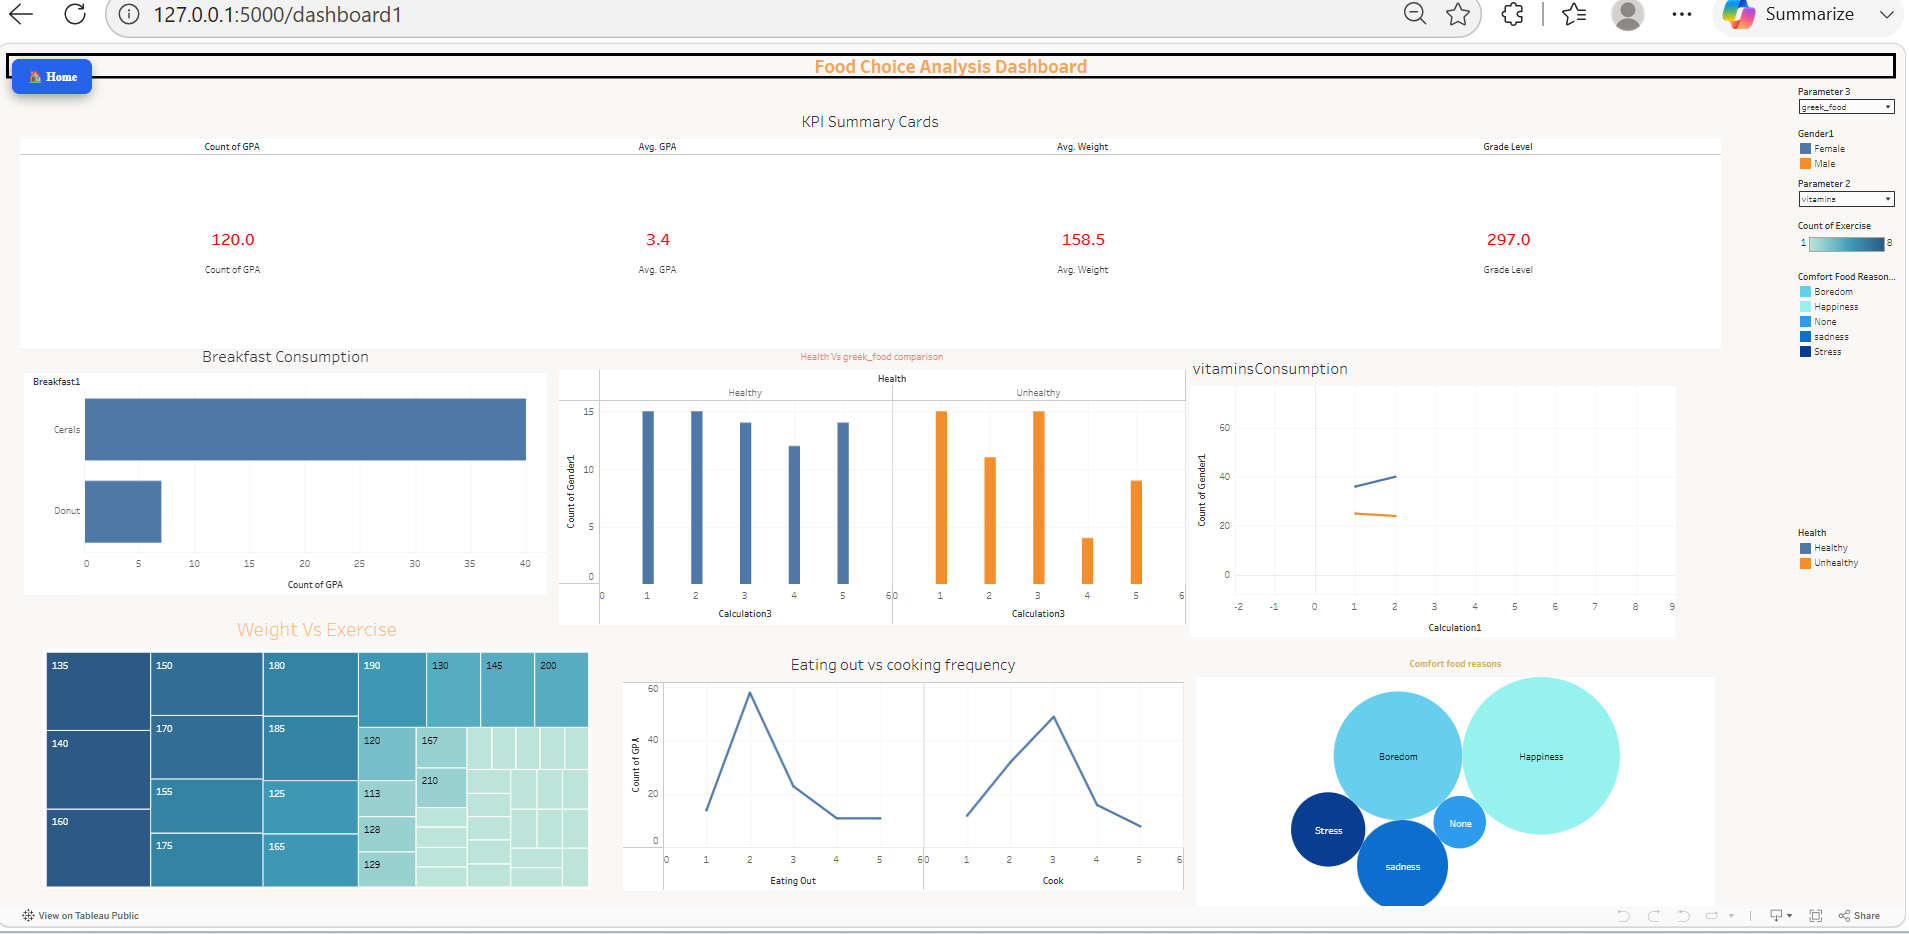

The page's visual inventory and layout, read from the dashboard file:
{"tool":"tableau","page":{"name":"Dashboard 1","canvas":[1000,1000],"units":"permille","ordinal":0},"visuals":[{"type":"title","box":[5.2,9.9,989.6,70.7]},{"type":"worksheet","title":"KPI Summary Cards","mark":"Automatic","box":[11.7,72,891.9,282.9]},{"type":"blank","box":[5.2,80.7,899.1,909.4]},{"type":"parameter","param":"[Parameters].[Parameter 3]","box":[904.3,80.7,90.5,74.5]},{"type":"legend","title":"veggies and fruit consumption","param":"[federated.0iop2yz0rxy2os1fscd8y1kcwz9l].[none:Calculation_2012398522204160:nk]","box":[904.3,155.1,90.5,104.2]},{"type":"parameter","param":"[Parameters].[Parameter 1]","box":[904.3,259.3,90.5,74.5]},{"type":"legend","title":"Weight vs Exercise frequency","param":"[federated.0iop2yz0rxy2os1fscd8y1kcwz9l].[cnt:exercise:qk]","box":[904.3,333.8,90.5,100.5]},{"type":"worksheet","title":"Breakfast Consumption","mark":"Automatic","rows":["Calculation_2012398522994689"],"cols":["GPA"],"box":[14.2,344.9,274,294]},{"type":"worksheet","title":"Health Vs greek_food comparison","mark":"Bar","rows":["Calculation_2012398522204160"],"cols":["Calculation_2012398525644804","Calculation_2012398556102663"],"box":[294.3,349.9,328.8,323.8]},{"type":"worksheet","title":"veggies and fruit consumption","mark":"Line","rows":["Calculation_2012398522204160"],"cols":["Calculation_2012398553907206"],"box":[625,359.8,254.6,328.8]},{"type":"legend","title":"Comfort food reasons","param":"[federated.0iop2yz0rxy2os1fscd8y1kcwz9l].[Comfort Food Reasons (group)]","box":[904.3,434.3,90.5,424.3]},{"type":"worksheet","title":"Weight vs Exercise frequency","mark":"Automatic","box":[23.9,658.8,287.6,322.6]},{"type":"worksheet","title":"Eating out vs cooking frequency","mark":"Line","rows":["GPA"],"cols":["eating_out","cook"],"box":[328.1,702.2,293.6,280.4]},{"type":"legend","title":"Health Vs greek_food comparison","param":"[federated.0iop2yz0rxy2os1fscd8y1kcwz9l].[none:Calculation_2012398525644804:nk]","box":[904.3,858.6,90.5,104.2]}]}

Visuals, with their boxes on the dashboard's canvas, which has no fixed pixel size, in thousandths of its width and height (x1, y1, x2, y2). These are canvas units, not pixel positions in the 1909x934 screenshot, which may show the page scaled, cropped or inside an application window:
title: {"x1": 5, "y1": 10, "x2": 995, "y2": 81}
"KPI Summary Cards" worksheet: {"x1": 12, "y1": 72, "x2": 904, "y2": 355}
blank: {"x1": 5, "y1": 81, "x2": 904, "y2": 990}
parameter: {"x1": 904, "y1": 81, "x2": 995, "y2": 155}
"veggies and fruit consumption" legend: {"x1": 904, "y1": 155, "x2": 995, "y2": 259}
parameter: {"x1": 904, "y1": 259, "x2": 995, "y2": 334}
"Weight vs Exercise frequency" legend: {"x1": 904, "y1": 334, "x2": 995, "y2": 434}
"Breakfast Consumption" worksheet: {"x1": 14, "y1": 345, "x2": 288, "y2": 639}
"Health Vs greek_food comparison" worksheet (Bar marks): {"x1": 294, "y1": 350, "x2": 623, "y2": 674}
"veggies and fruit consumption" worksheet (Line marks): {"x1": 625, "y1": 360, "x2": 880, "y2": 689}
"Comfort food reasons" legend: {"x1": 904, "y1": 434, "x2": 995, "y2": 859}
"Weight vs Exercise frequency" worksheet: {"x1": 24, "y1": 659, "x2": 312, "y2": 981}
"Eating out vs cooking frequency" worksheet (Line marks): {"x1": 328, "y1": 702, "x2": 622, "y2": 983}
"Health Vs greek_food comparison" legend: {"x1": 904, "y1": 859, "x2": 995, "y2": 963}
